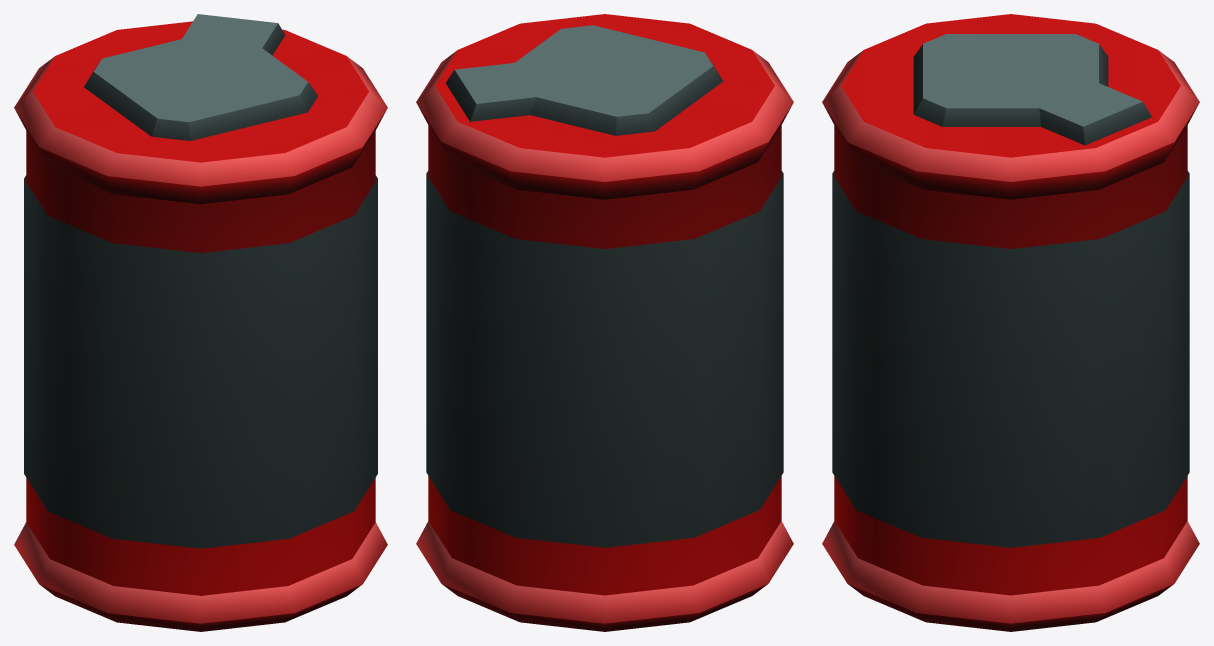
File: Barrel_2B.fbx
3 views of the same model, side by side, from view 1: azimuth 30°, elevation 25°; view 2: azimuth 150°, elevation 25°; view 3: azimuth 270°, elevation 25° (orthographic).
Parts seen in each view (by area): view 1: Barrel_2B; view 2: Barrel_2B; view 3: Barrel_2B.
Boxes of the visible parts, bbox=[...] form: Barrel_2B: bbox=[14, 14, 387, 631]; Barrel_2B: bbox=[416, 14, 793, 631]; Barrel_2B: bbox=[822, 14, 1199, 631].
Size of the model in its own units: 0.8664 by 1.24 by 0.8664.
